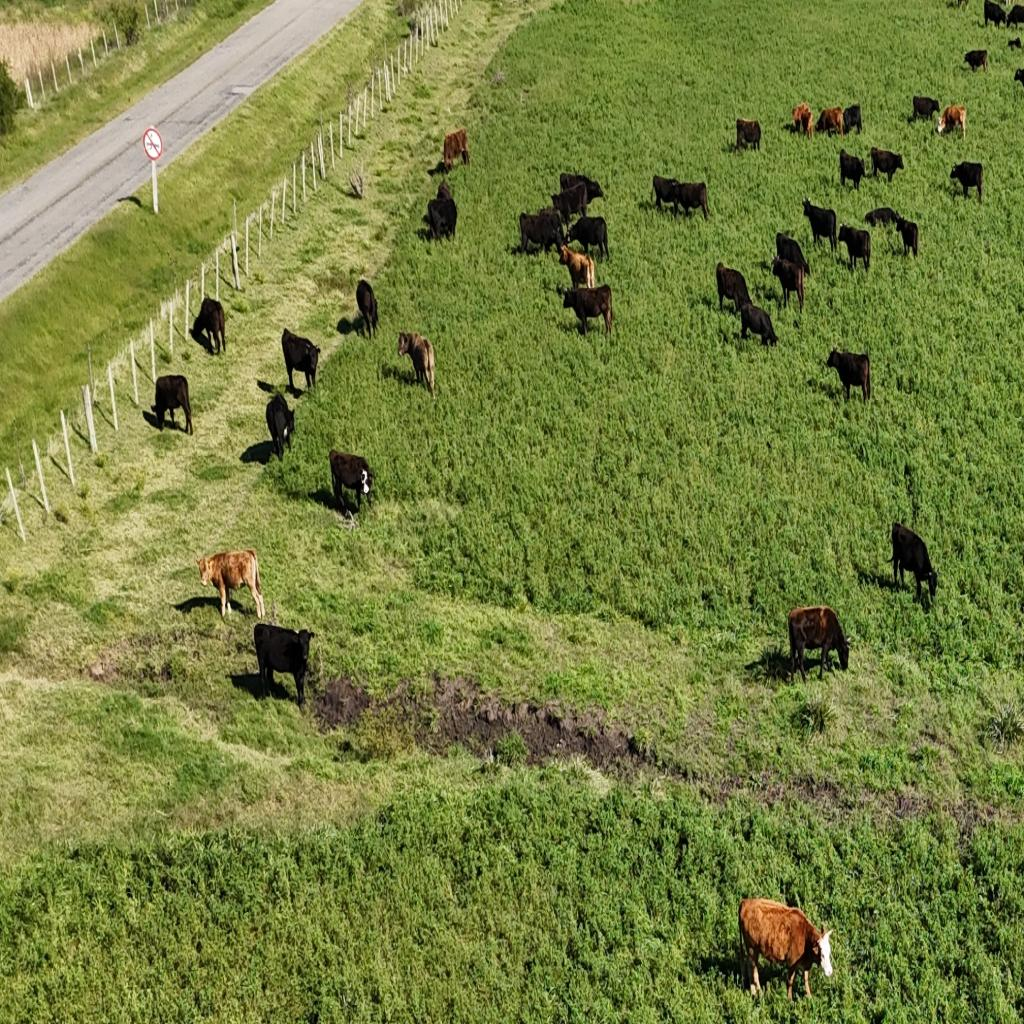cow: (737, 894, 832, 1001), (774, 596, 858, 675), (252, 620, 314, 707), (194, 547, 266, 619), (892, 522, 940, 606), (328, 448, 374, 516), (561, 284, 613, 338), (281, 326, 320, 395), (826, 347, 872, 405), (151, 374, 194, 435), (398, 329, 437, 395), (519, 208, 567, 257), (424, 181, 459, 244), (568, 214, 610, 264), (265, 392, 295, 461), (716, 262, 754, 316), (772, 254, 806, 312), (738, 300, 778, 349), (192, 298, 226, 354), (557, 242, 595, 292), (802, 198, 837, 250), (550, 186, 588, 233), (775, 231, 811, 279), (838, 222, 872, 272), (672, 179, 708, 224), (560, 172, 604, 207), (356, 277, 380, 340), (949, 160, 983, 202), (869, 147, 905, 183), (443, 128, 471, 172), (937, 104, 970, 139), (652, 174, 682, 212), (838, 150, 866, 190), (895, 213, 919, 259), (815, 106, 844, 138), (736, 117, 762, 152), (912, 95, 942, 122), (864, 207, 899, 230), (792, 103, 814, 139), (984, 0, 1007, 30), (842, 102, 862, 135), (963, 49, 989, 74), (1013, 3, 1024, 27)
